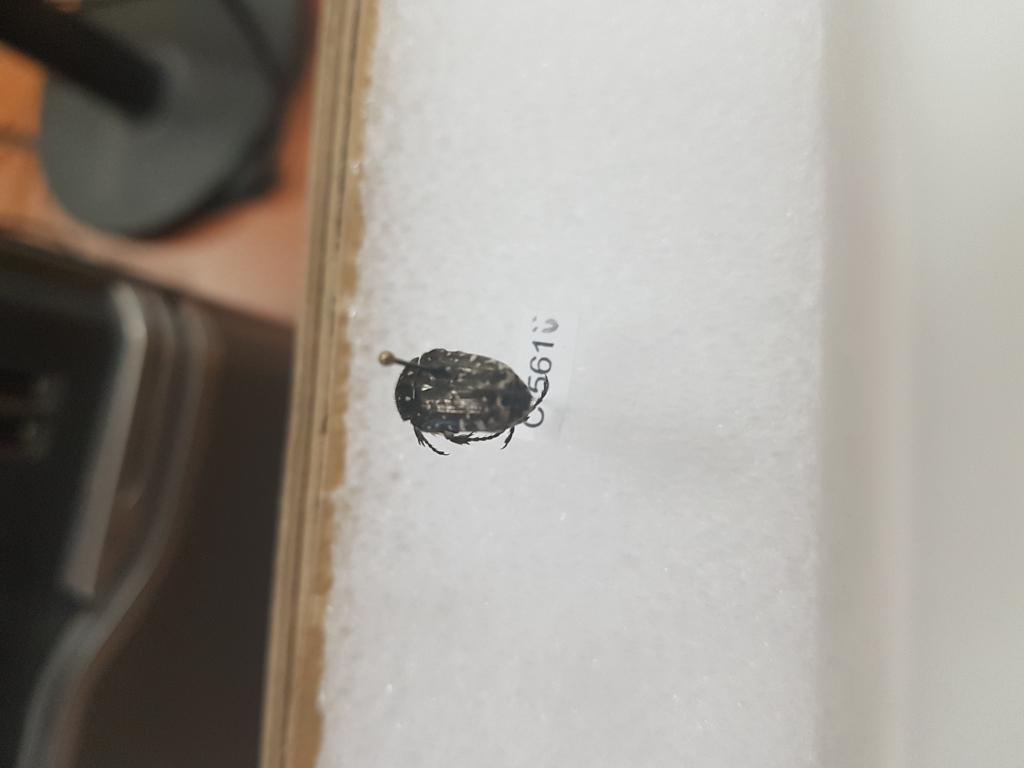Oxythyrea_funesta: (391, 337, 554, 453)
